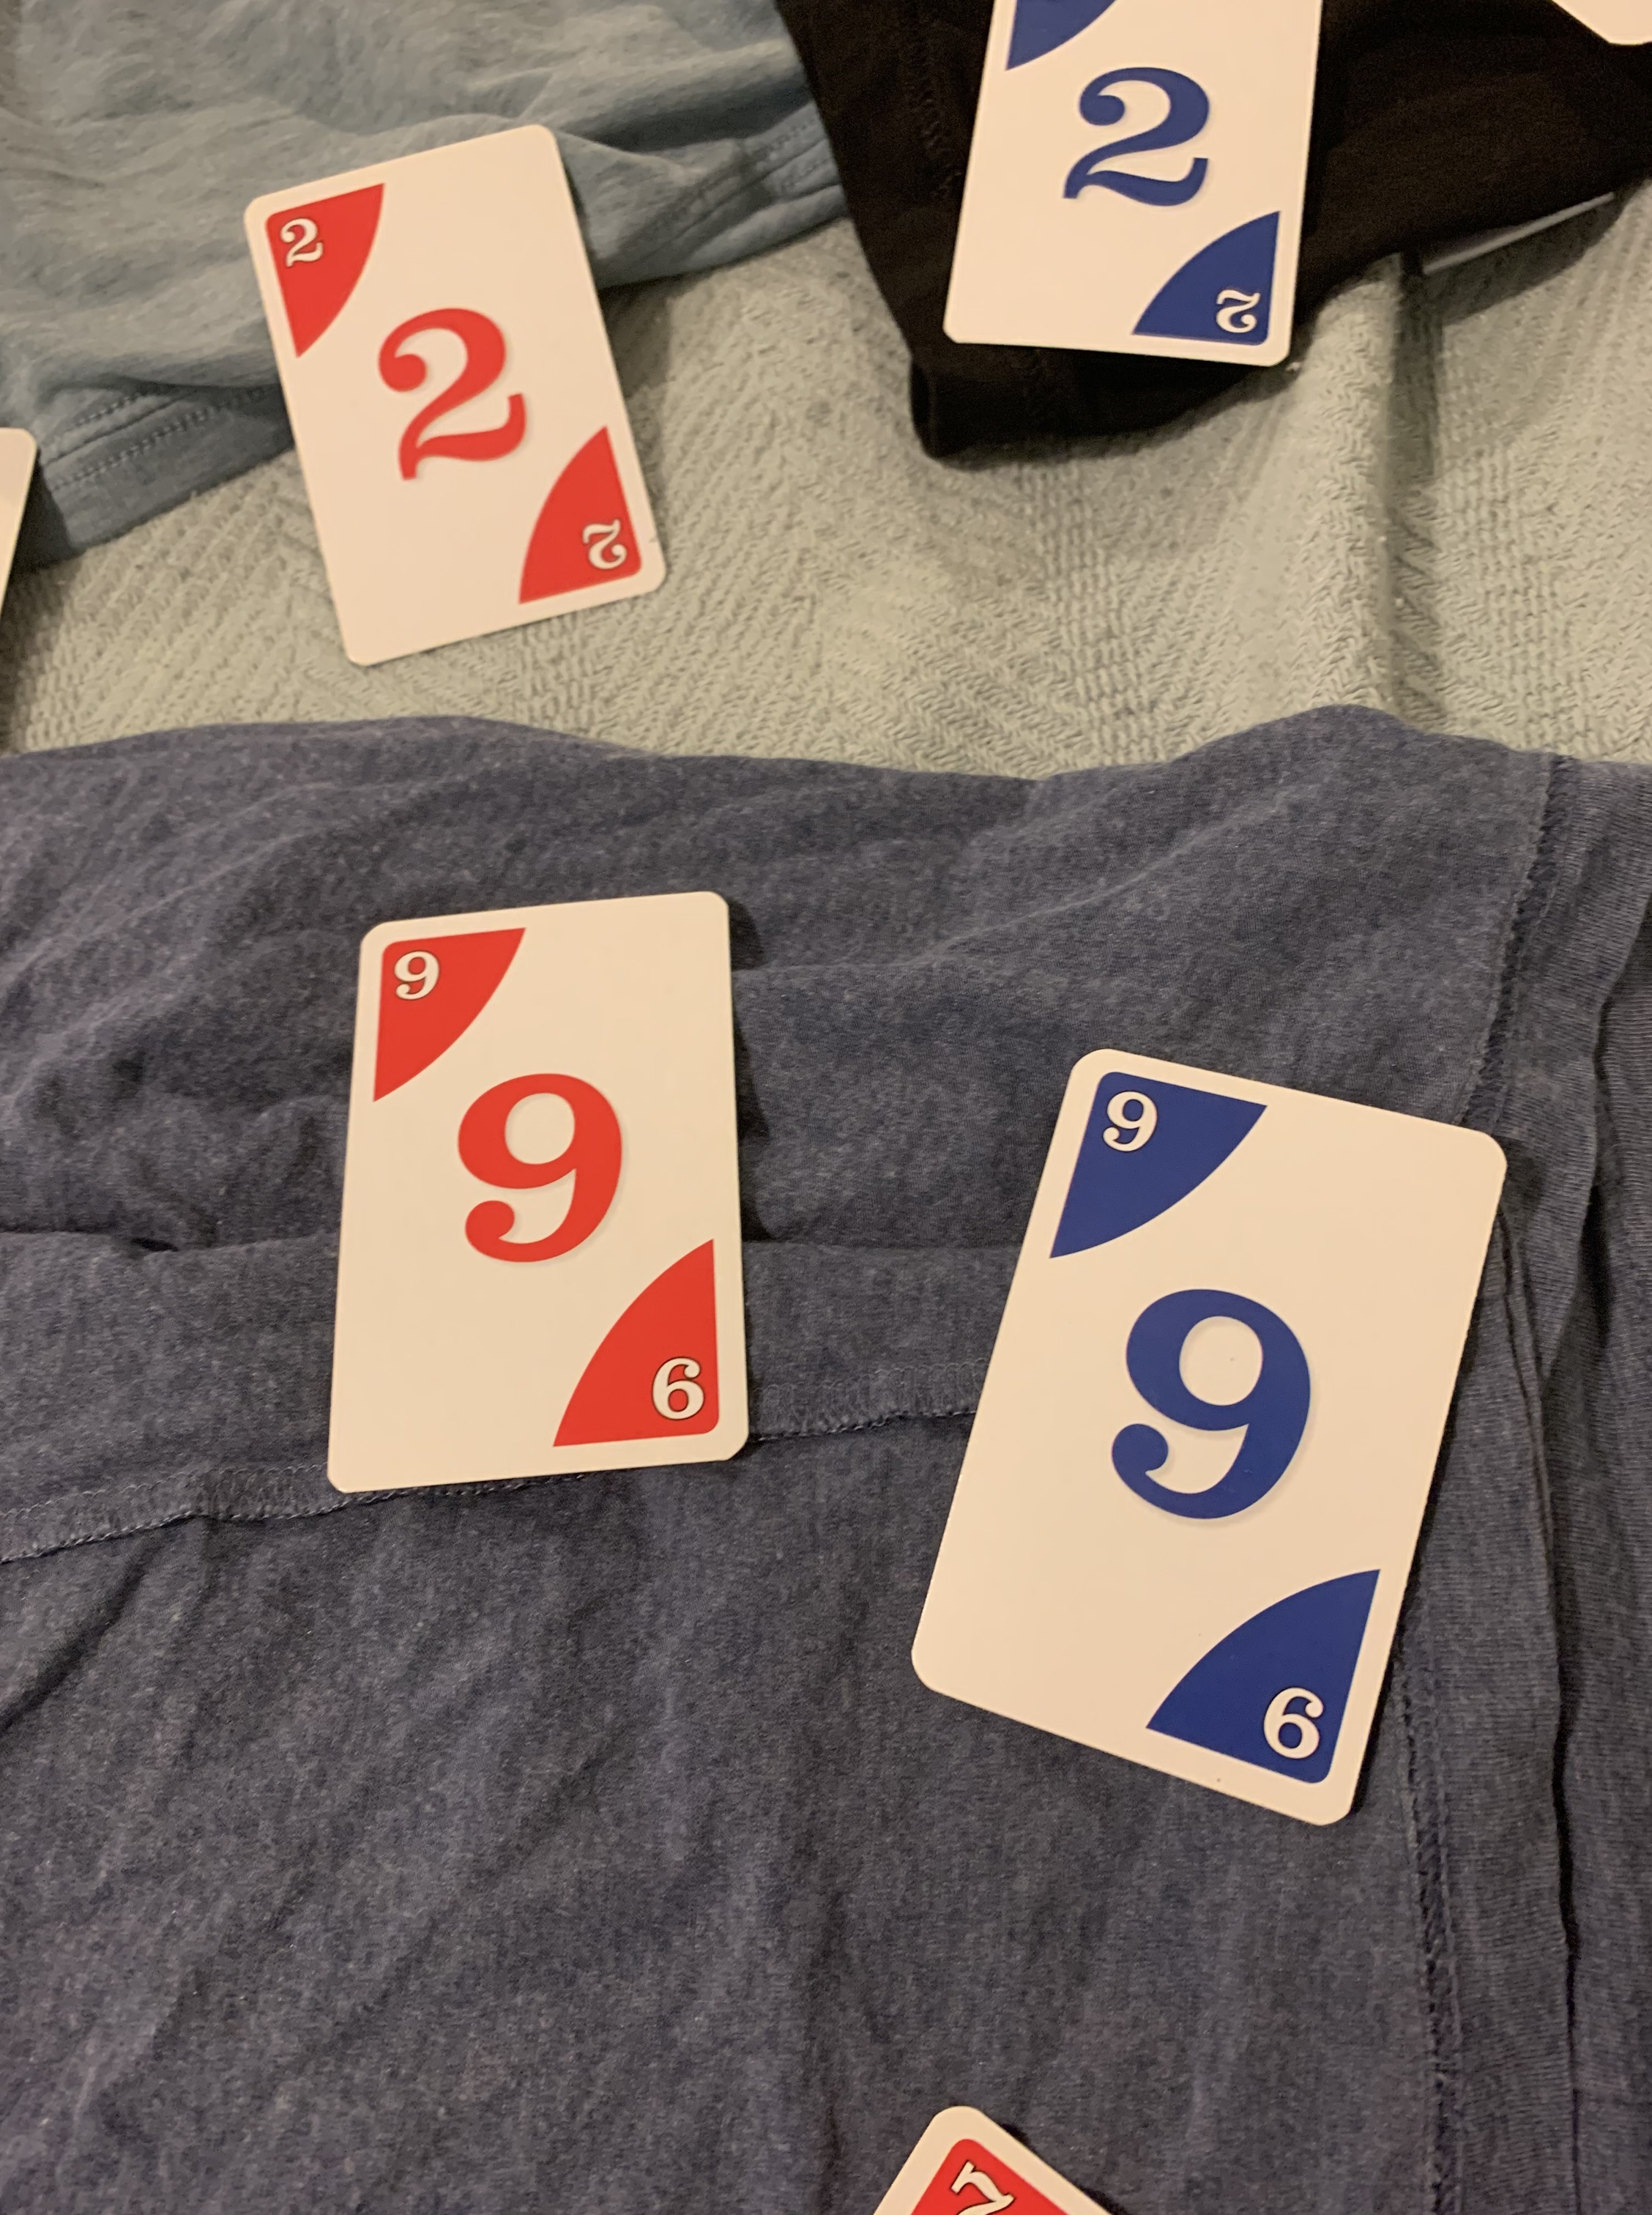nine: (918, 1040, 1506, 1835), (316, 880, 769, 1502)
two: (239, 132, 670, 670), (946, 0, 1334, 370)
